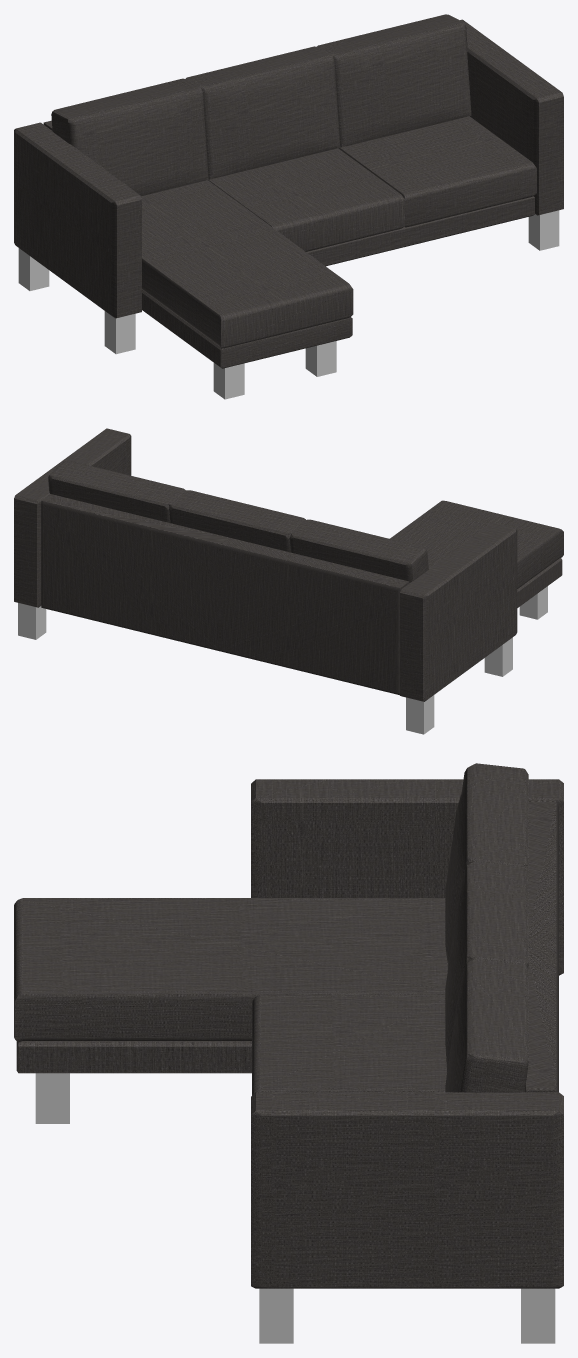
The model's file is sh_blend_swap_cc_0_couch2.glb.
3 renders of one model, top to bottom at view 1: azimuth 30°, elevation 25°; view 2: azimuth 150°, elevation 25°; view 3: azimuth 270°, elevation 25°, orthographic. The views are drawn at different scales.
Size of the model in its own units: 2.3 by 0.866 by 1.6.
Materials: 2 (1 with a texture image).
